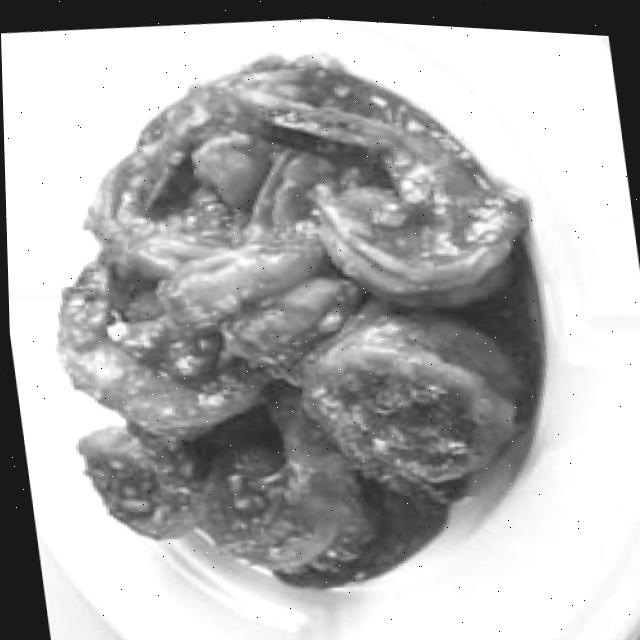熟制海鲜: (0, 0, 588, 638)
